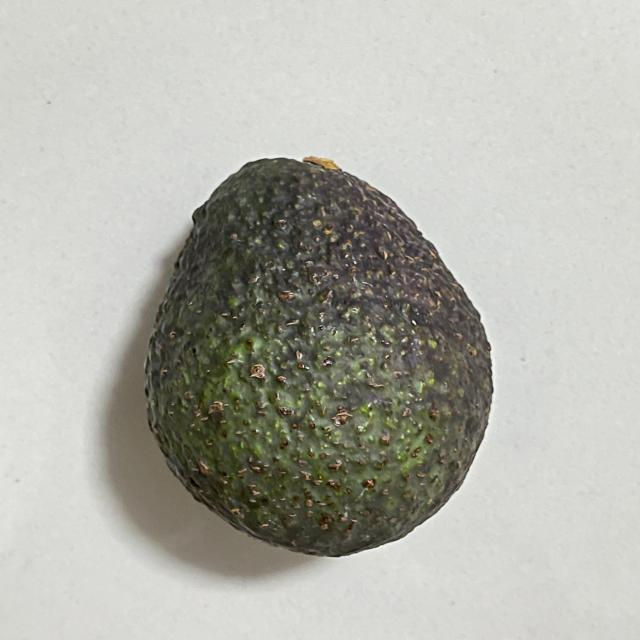Level1: (133, 134, 510, 566)
